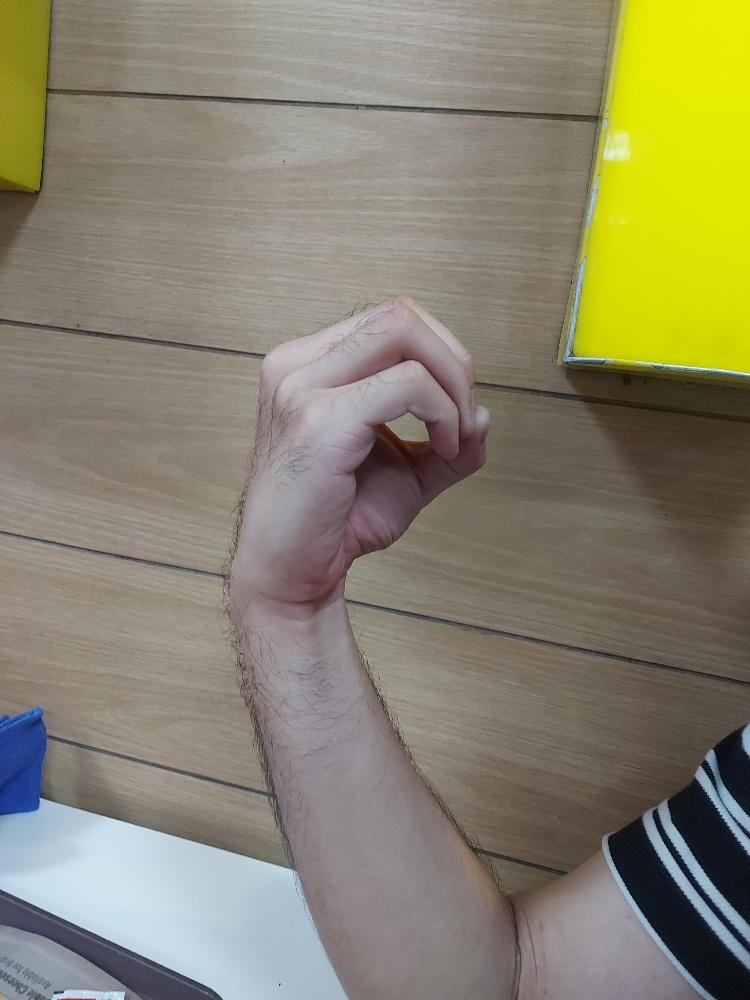o: (217, 291, 492, 604)
